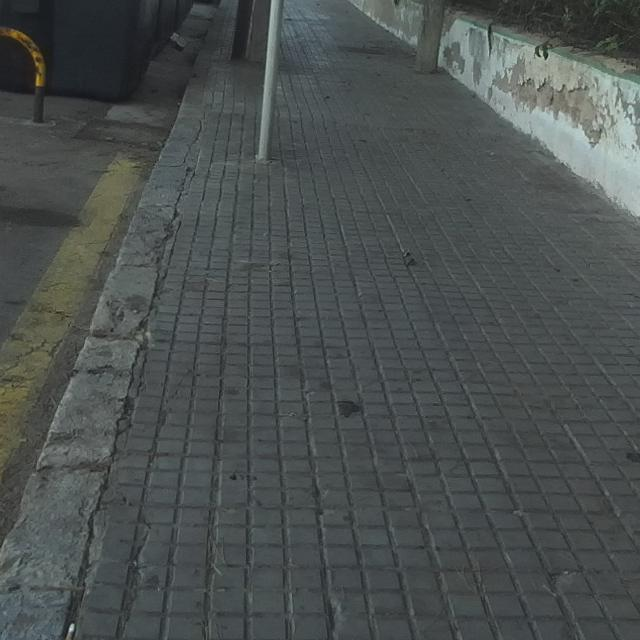calcada_quebrada: (103, 504, 160, 635), (143, 365, 204, 463)
